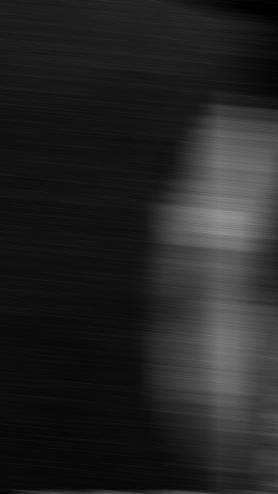Airbag: (0, 0, 278, 494), (254, 0, 278, 494), (0, 492, 278, 494), (254, 492, 278, 494)
